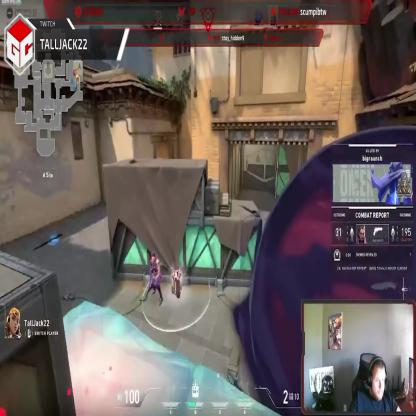enemy: (148, 250, 163, 309)
enemy_head: (151, 251, 156, 262)
